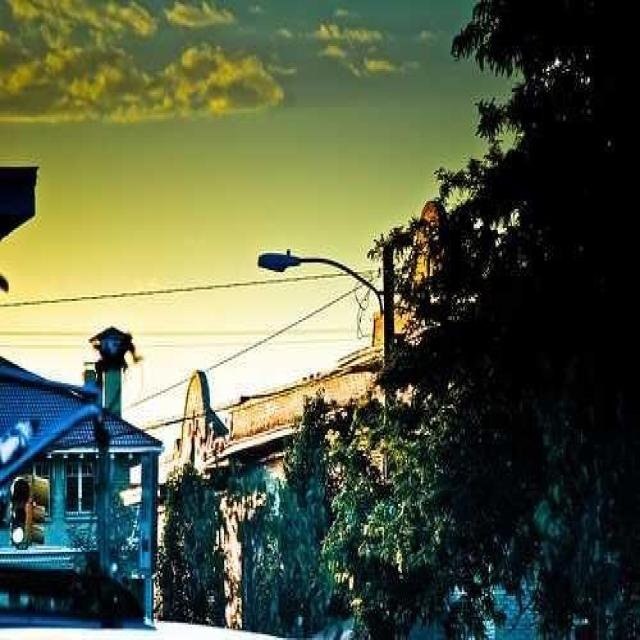Traffic Light -Green-: (7, 470, 30, 553)
